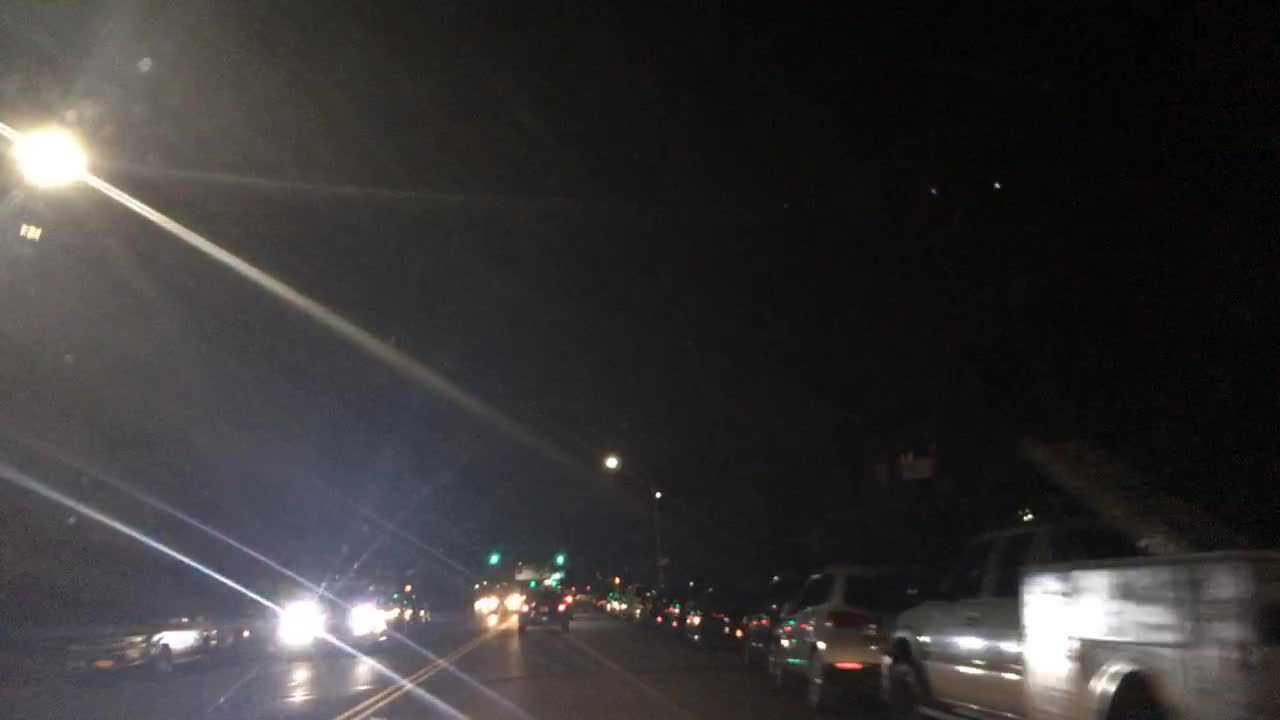car: (894, 517, 1275, 718), (753, 561, 933, 715), (63, 607, 226, 685), (272, 575, 391, 649), (679, 579, 766, 643), (648, 583, 716, 632), (516, 583, 575, 634), (380, 586, 432, 638), (470, 583, 525, 619), (621, 583, 665, 619), (597, 583, 630, 616), (557, 582, 577, 619)
traffic light: (478, 546, 503, 568), (549, 547, 568, 570), (523, 575, 539, 588)
